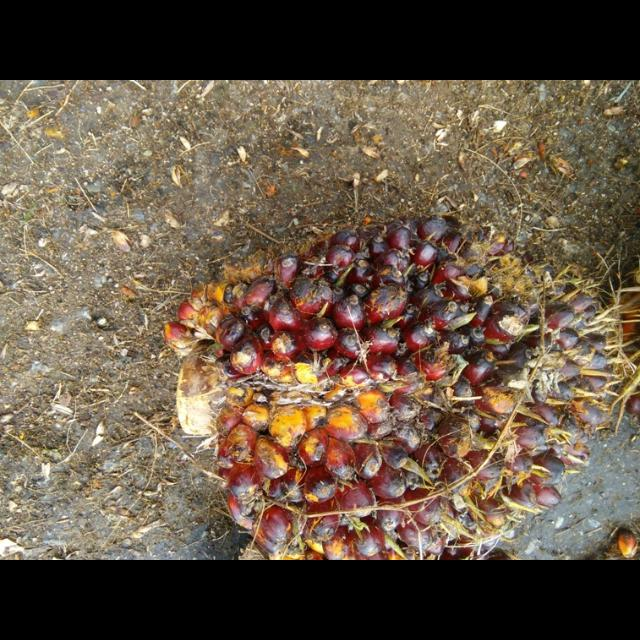Ripe: (164, 212, 618, 559)
